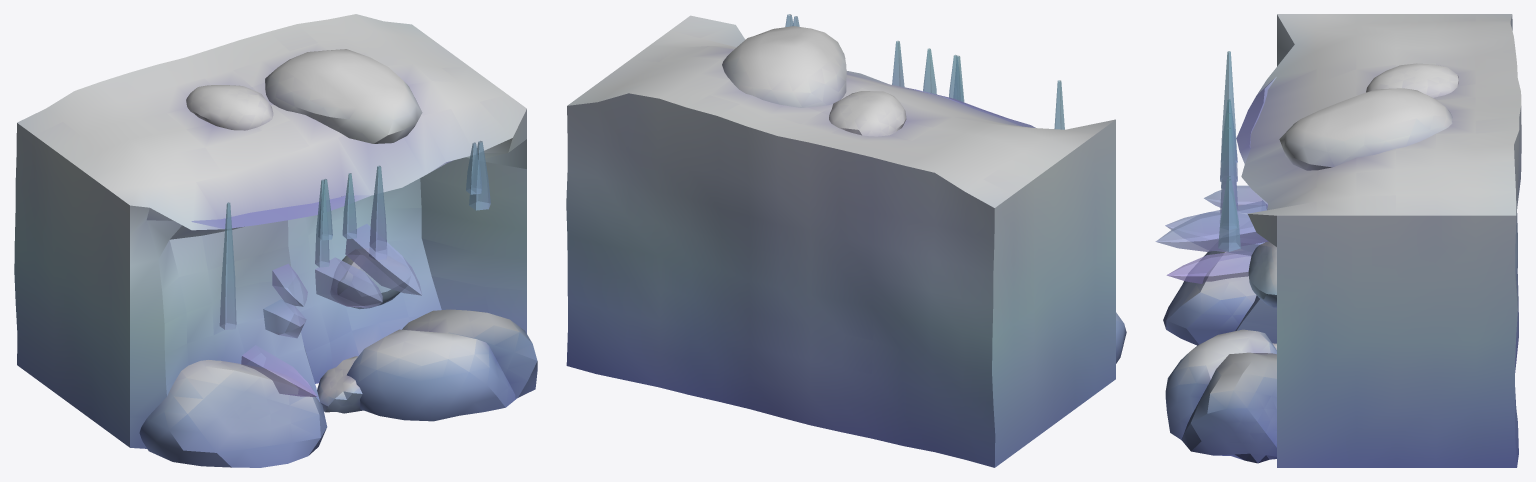
Rendered from glass_cliff_ice_c.glb.
The picture shows the model from 3 angles, left to right: view 1: azimuth 30°, elevation 25°; view 2: azimuth 150°, elevation 25°; view 3: azimuth 270°, elevation 25°; orthographic projection. The views are drawn at different scales.
Visible parts, largest first — view 1: glass_cliff_ice_c; view 2: glass_cliff_ice_c; view 3: glass_cliff_ice_c.
Part boxes in pixels (box(x1,y1,x2,y2)): glass_cliff_ice_c: box(14, 14, 537, 467); glass_cliff_ice_c: box(566, 14, 1126, 467); glass_cliff_ice_c: box(1155, 14, 1521, 467).
Bounding box in the file's own units: 12 × 8.52 × 9.21.
